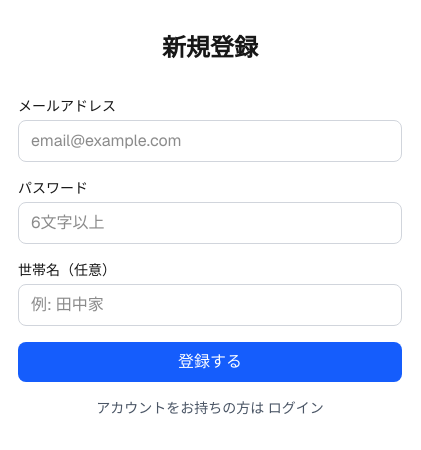
it: SignupPage › displays error on auth failure
This screenshot has width=421, height=450.
Type "test@example.com" into the field labelled "メールアドレス". click: (210, 141)
box: [18,120,402,162]
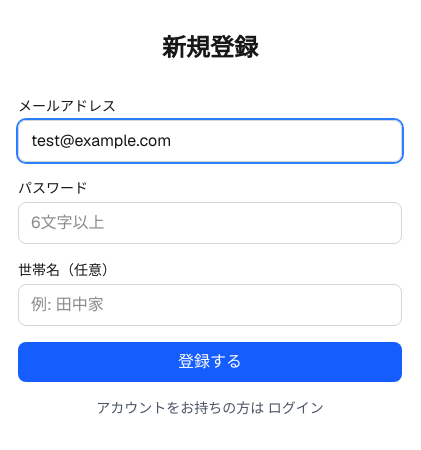
Type "password123" into the password field labelled "パスワード". click: (210, 223)
box: [18,202,402,244]
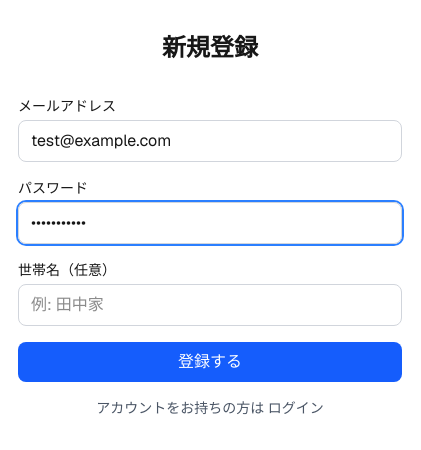
Click the button "登録する". click: (210, 362)
box: [18,342,402,382]
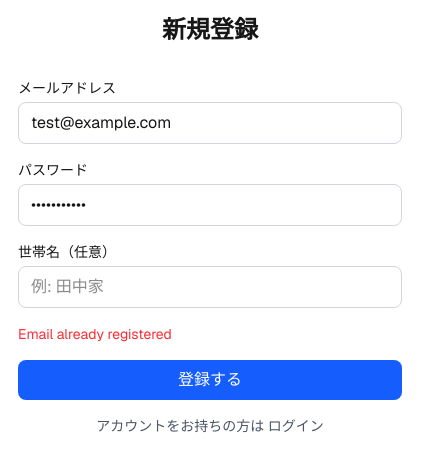
Result: the text "Email already registered" is shown at [18,325,172,343]
